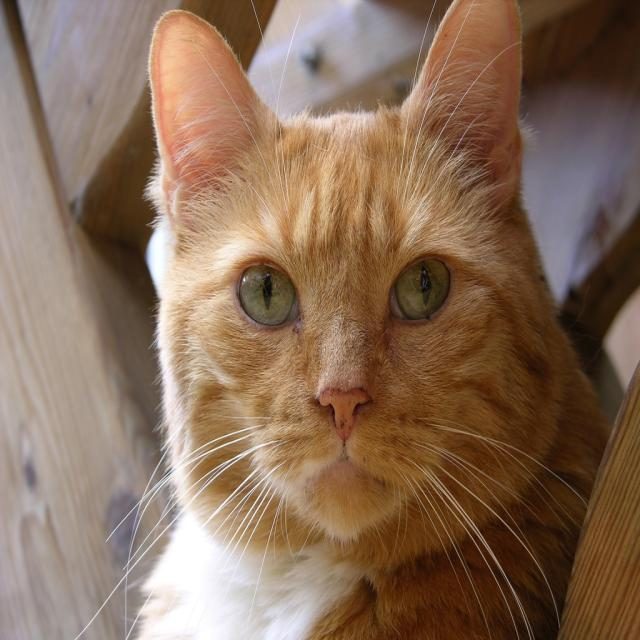Cat: (73, 0, 609, 638)
